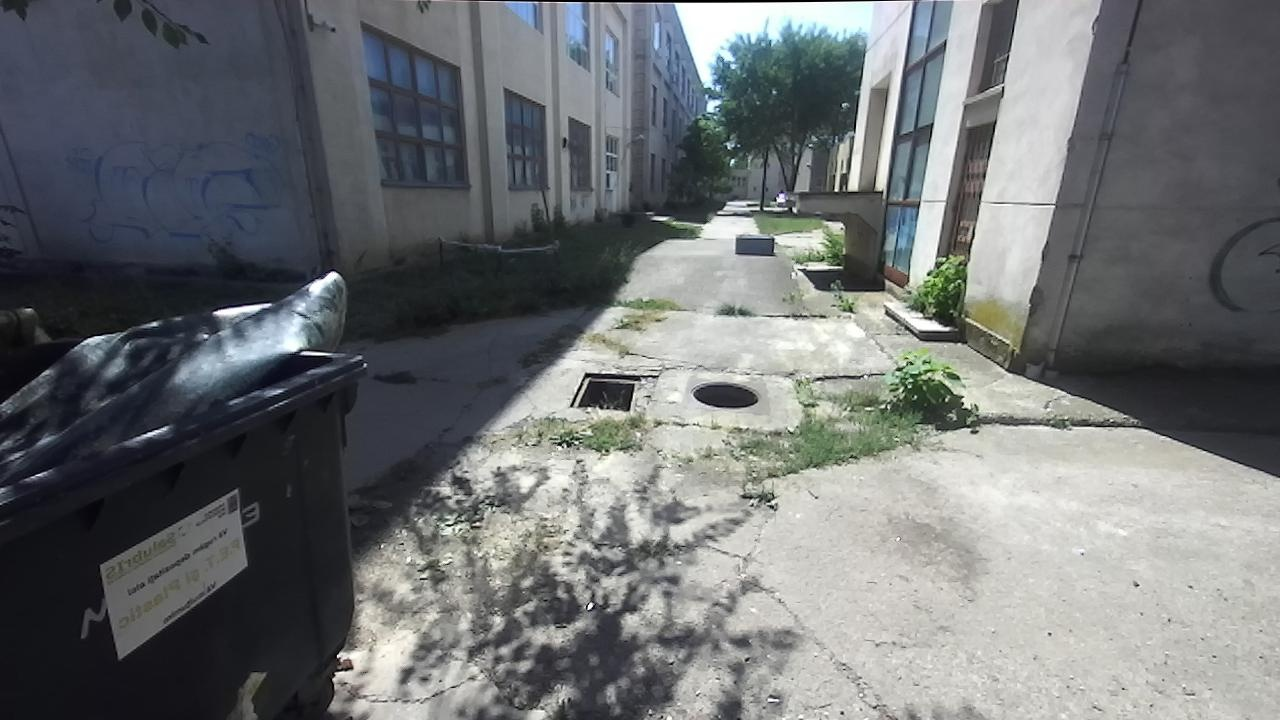drain: (564, 369, 641, 411), (686, 374, 766, 411)
